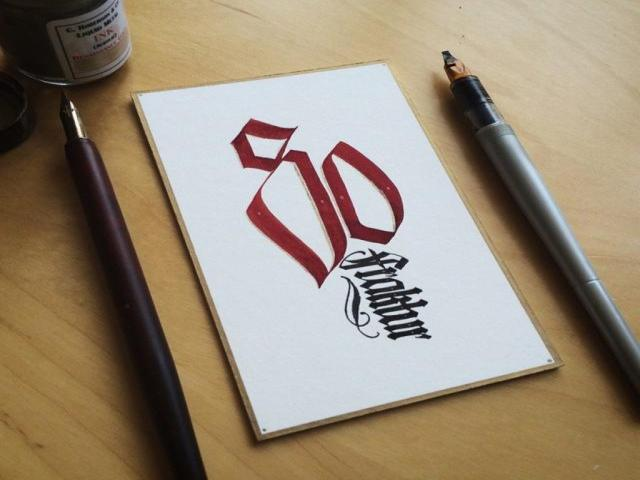PEN: (431, 35, 640, 409), (25, 82, 217, 480)
